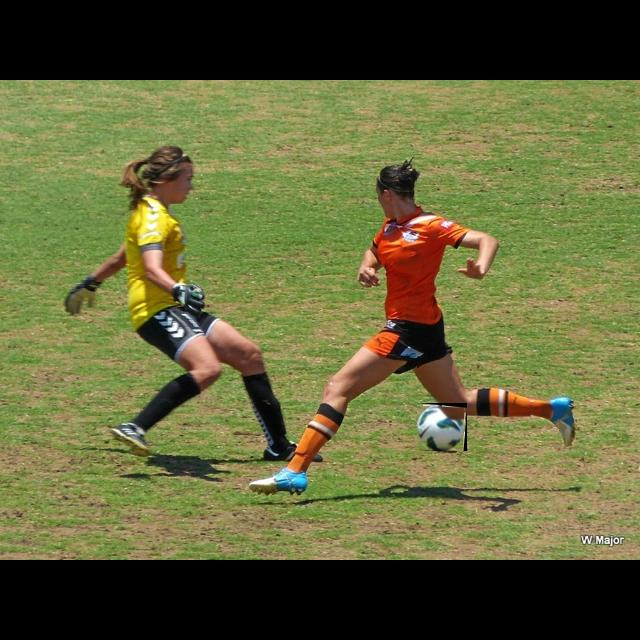Football: (417, 403, 467, 451)
